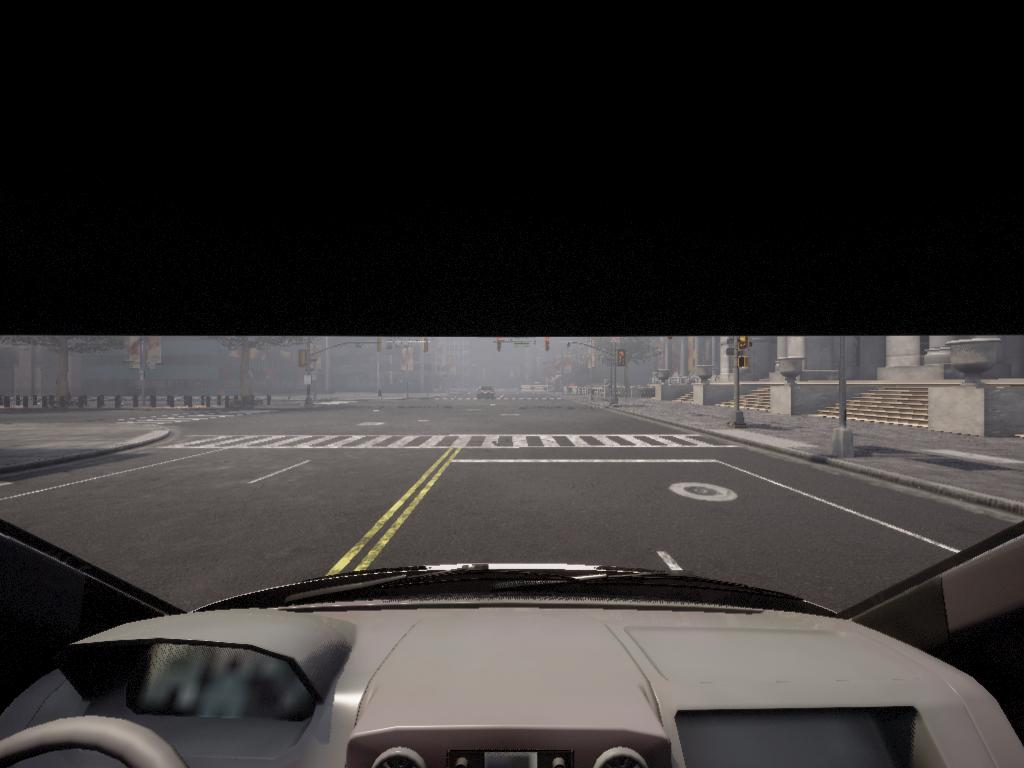traffic_light: (740, 338, 754, 368), (299, 349, 309, 371), (619, 352, 627, 366), (496, 338, 503, 354), (377, 339, 383, 354), (425, 339, 431, 353), (547, 338, 551, 353)
